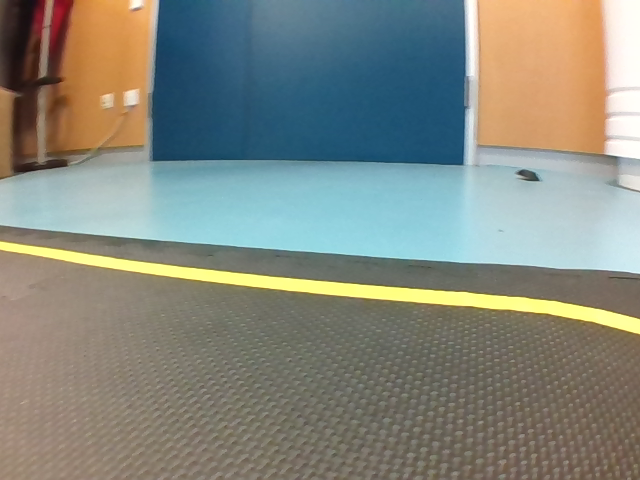30: (231, 53, 288, 125), (17, 119, 38, 138)
no30: (84, 99, 117, 131)
